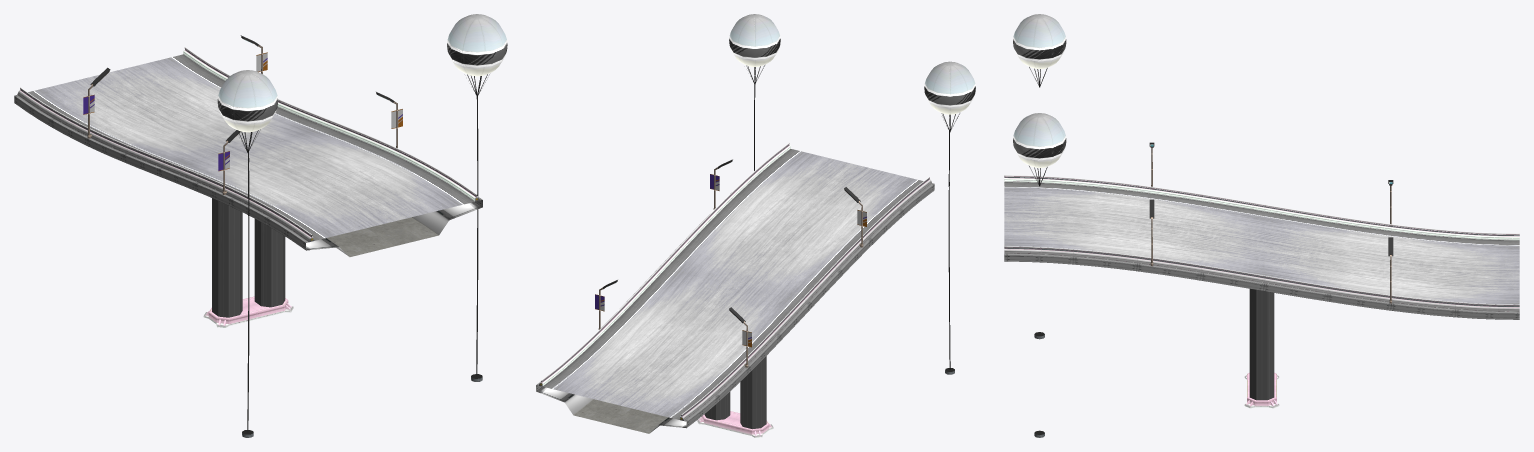
3 renders of one model, left to right at view 1: azimuth 30°, elevation 25°; view 2: azimuth 150°, elevation 25°; view 3: azimuth 270°, elevation 25°, orthographic. The views are drawn at different scales.
Parts seen in each view (by area): view 1: straight_road, standard_bridge, balloon_top, support_pylon, barrier_elevated, support_ground, balloon_tether; view 2: straight_road, standard_bridge, barrier_elevated, balloon_top, support_pylon, support_ground, balloon_tether; view 3: straight_road, barrier_elevated, balloon_top, standard_bridge, support_pylon.
Part boxes in pixels (left/top/right/bottom): straight_road: left=28, top=54, right=474, bottom=240; standard_bridge: left=14, top=95, right=482, bottom=256; balloon_top: left=217, top=14, right=507, bottom=152; support_pylon: left=212, top=198, right=285, bottom=317; barrier_elevated: left=17, top=47, right=479, bottom=242; support_ground: left=203, top=296, right=293, bottom=327; balloon_tether: left=247, top=95, right=478, bottom=432; straight_road: left=543, top=149, right=923, bottom=419; standard_bridge: left=536, top=183, right=934, bottom=433; barrier_elevated: left=538, top=142, right=931, bottom=420; balloon_top: left=729, top=14, right=975, bottom=132; support_pylon: left=704, top=356, right=766, bottom=429; support_ground: left=697, top=411, right=773, bottom=437; balloon_tether: left=754, top=84, right=950, bottom=369; straight_road: left=1004, top=182, right=1519, bottom=306; barrier_elevated: left=1004, top=175, right=1519, bottom=311; balloon_top: left=1013, top=14, right=1066, bottom=186; standard_bridge: left=1004, top=253, right=1519, bottom=319; support_pylon: left=1249, top=289, right=1274, bottom=400.
Size of the model in its own units: 7142 by 8797 by 12800.
